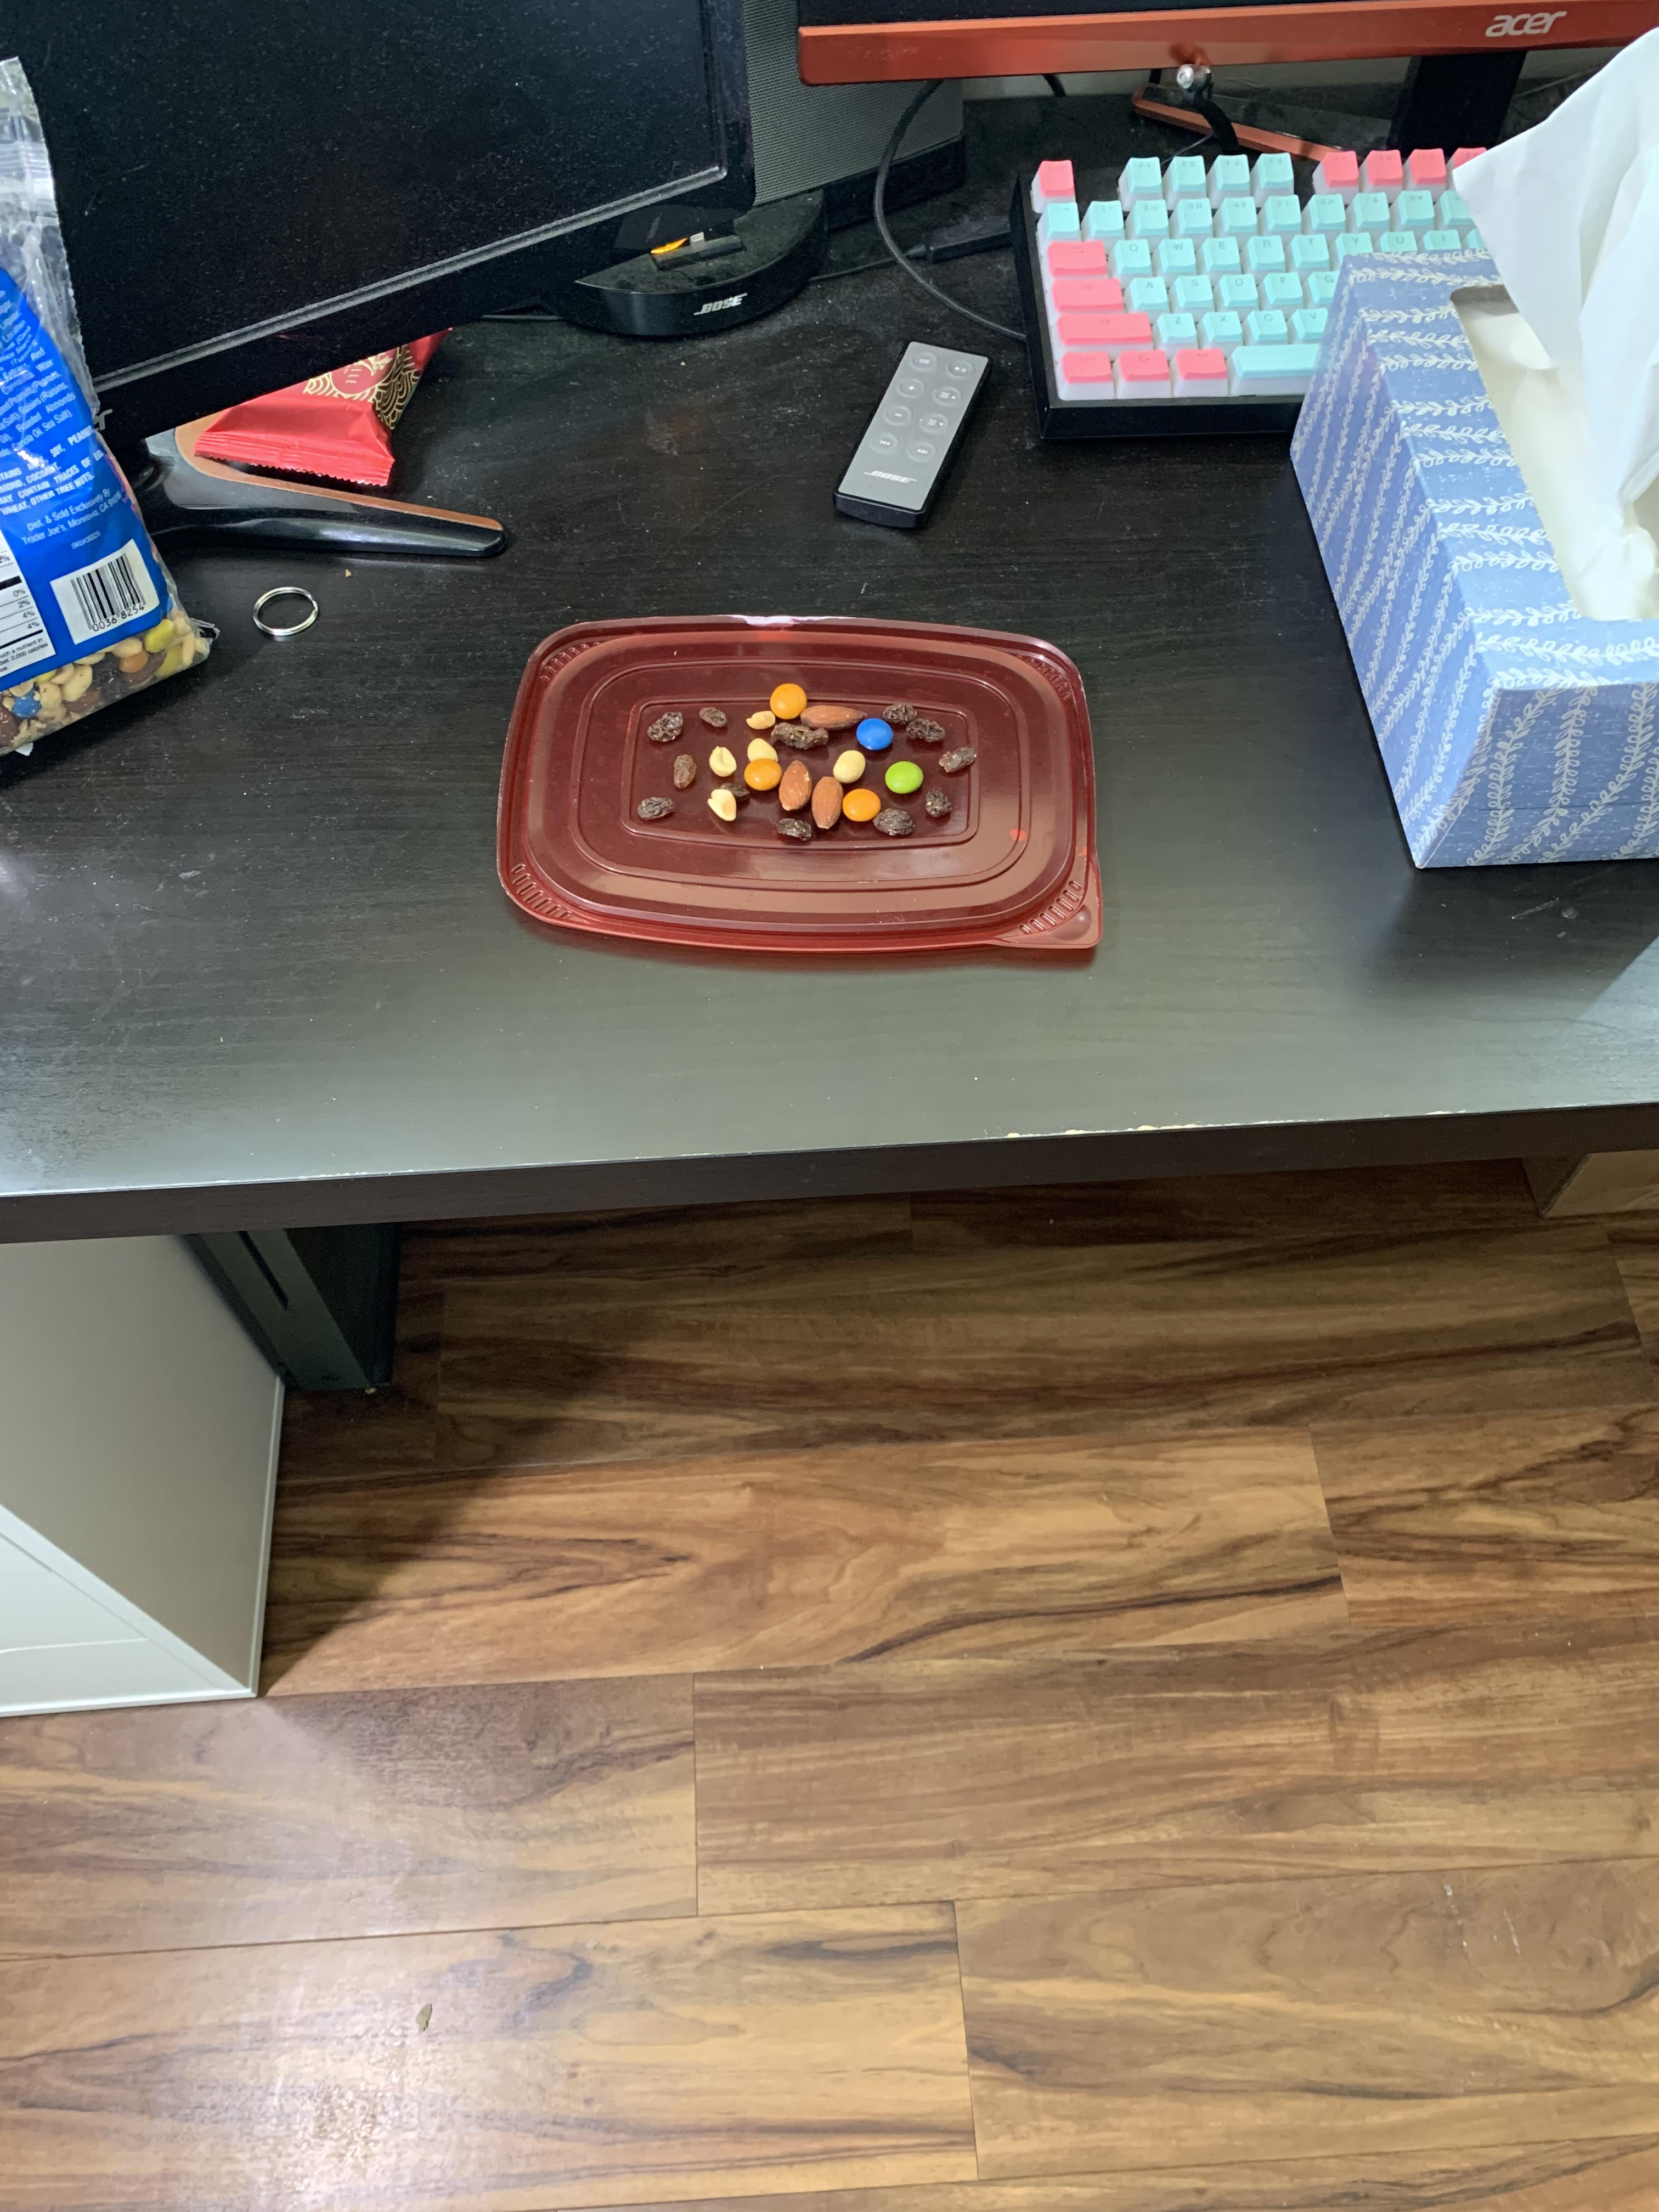almond: (779, 759, 812, 812), (812, 775, 843, 829), (800, 704, 868, 728)
mm: (842, 787, 882, 822), (770, 683, 807, 719), (744, 758, 782, 791), (856, 718, 894, 751), (885, 761, 924, 794)
peanut: (833, 749, 866, 782), (708, 789, 737, 822), (709, 745, 737, 777), (746, 711, 775, 730)
raisin: (938, 744, 978, 773), (873, 808, 915, 836), (647, 711, 683, 742), (904, 718, 945, 742), (636, 796, 674, 820), (673, 752, 697, 789), (775, 817, 812, 841), (795, 726, 830, 751), (925, 789, 953, 819), (770, 723, 805, 745), (882, 702, 917, 725), (697, 705, 727, 728), (718, 782, 749, 799)
